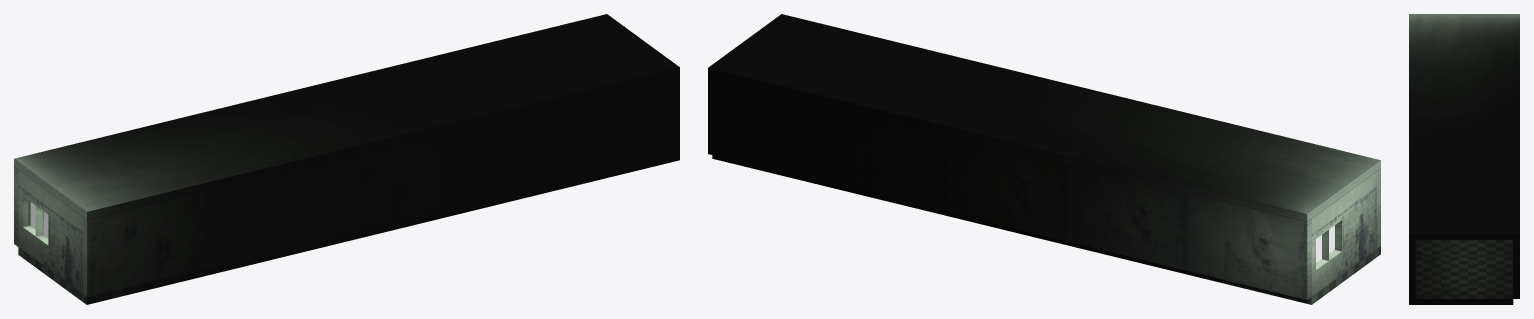
File: pulsethreeJS.glb
3 views of the same model, side by side, from view 1: azimuth 30°, elevation 25°; view 2: azimuth 150°, elevation 25°; view 3: azimuth 270°, elevation 25° (orthographic). The views are drawn at different scales.
Visible parts, largest first — view 1: Roof, Left Wall, Left Wall.003, Left Wall.001, Left Wall.004, Left Wall.002, Back Wall, Floor, Hallway Floor.002, Hallway Floor, Hallway Floor.001, Hallway Floor.003; view 2: Roof, Right Wall, Right Wall.002, Right Wall.003, Right Wall.005, Right Wall.006, Back Wall, Floor, Hallway Floor.003, Hallway Floor, Hallway Floor.002, Hallway Floor.001; view 3: Roof, Hallway Floor.003, Hallway Floor.002, Left Wall.004, Right Wall.006, Left Bottom Wall Curve.
Part boxes in pixels (left/top/right/bottom): Roof: left=14, top=14, right=679, bottom=219; Left Wall: left=82, top=191, right=205, bottom=296; Left Wall.003: left=442, top=104, right=561, bottom=210; Left Wall.001: left=205, top=162, right=323, bottom=268; Left Wall.004: left=561, top=75, right=679, bottom=181; Left Wall.002: left=324, top=133, right=442, bottom=239; Back Wall: left=18, top=170, right=82, bottom=293; Floor: left=18, top=247, right=205, bottom=304; Hallway Floor.002: left=442, top=181, right=561, bottom=217; Hallway Floor: left=205, top=239, right=323, bottom=275; Hallway Floor.001: left=324, top=210, right=442, bottom=246; Hallway Floor.003: left=561, top=152, right=679, bottom=188; Roof: left=708, top=14, right=1380, bottom=221; Right Wall: left=1187, top=193, right=1311, bottom=300; Right Wall.002: left=1067, top=163, right=1187, bottom=270; Right Wall.003: left=947, top=134, right=1067, bottom=241; Right Wall.005: left=828, top=105, right=947, bottom=212; Right Wall.006: left=708, top=75, right=827, bottom=183; Back Wall: left=1311, top=171, right=1376, bottom=296; Floor: left=1192, top=246, right=1380, bottom=304; Hallway Floor.003: left=712, top=155, right=832, bottom=187; Hallway Floor: left=1072, top=243, right=1191, bottom=275; Hallway Floor.002: left=832, top=184, right=951, bottom=216; Hallway Floor.001: left=952, top=213, right=1071, bottom=246; Roof: left=1409, top=14, right=1519, bottom=239; Hallway Floor.003: left=1409, top=255, right=1513, bottom=304; Hallway Floor.002: left=1416, top=240, right=1512, bottom=254; Left Wall.004: left=1409, top=240, right=1415, bottom=298; Right Wall.006: left=1513, top=240, right=1519, bottom=298; Left Bottom Wall Curve: left=1415, top=240, right=1416, bottom=298.
Size of the model in its own units: 80 by 12 by 17.
15 materials, 14 textured.
